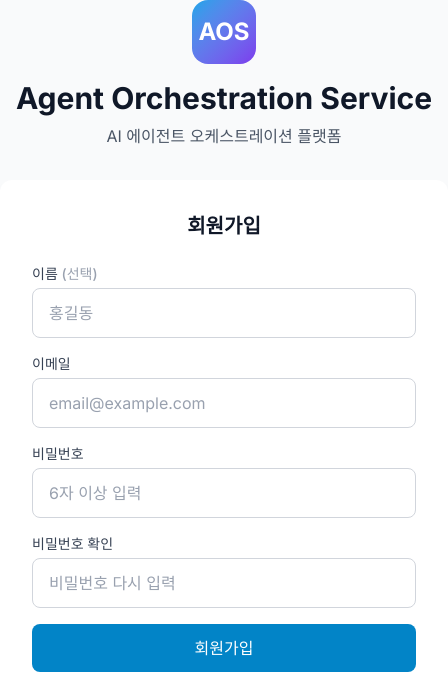
Test: RegisterPage › shows error when passwords do not match
The image size is (448, 687).
Type "test@test.com" into the field labelled "이메일" at x=224, y=403, box [32,378,416,428]
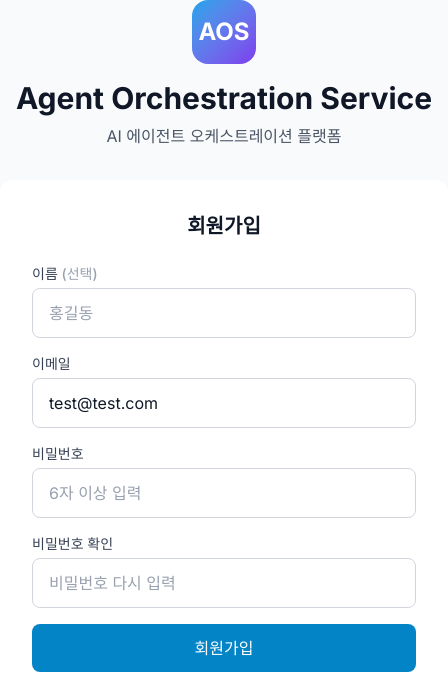
Type "password123" into the password field labelled "비밀번호" at x=224, y=493, box [32,468,416,518]
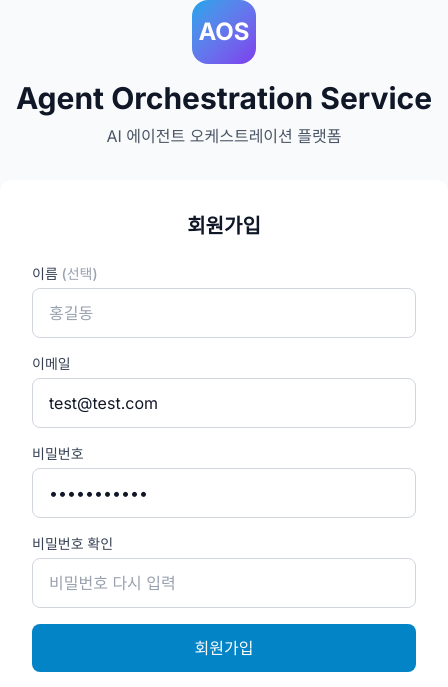
Type "different" into the password field labelled "비밀번호 확인" at x=224, y=583, box [32,558,416,608]
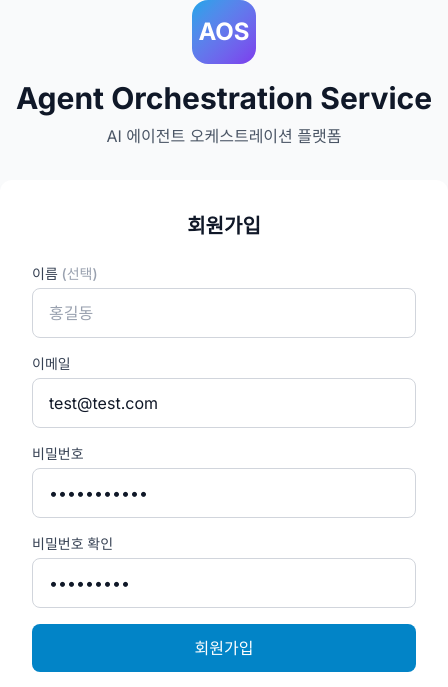
Submit the form from the button "회원가입", box [32,624,416,672]
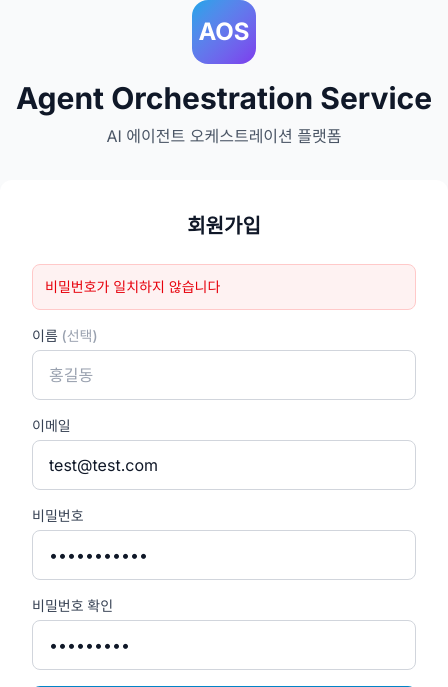
Check: the text "비밀번호가 일치하지 않습니다" is shown, box [32,264,416,310]
